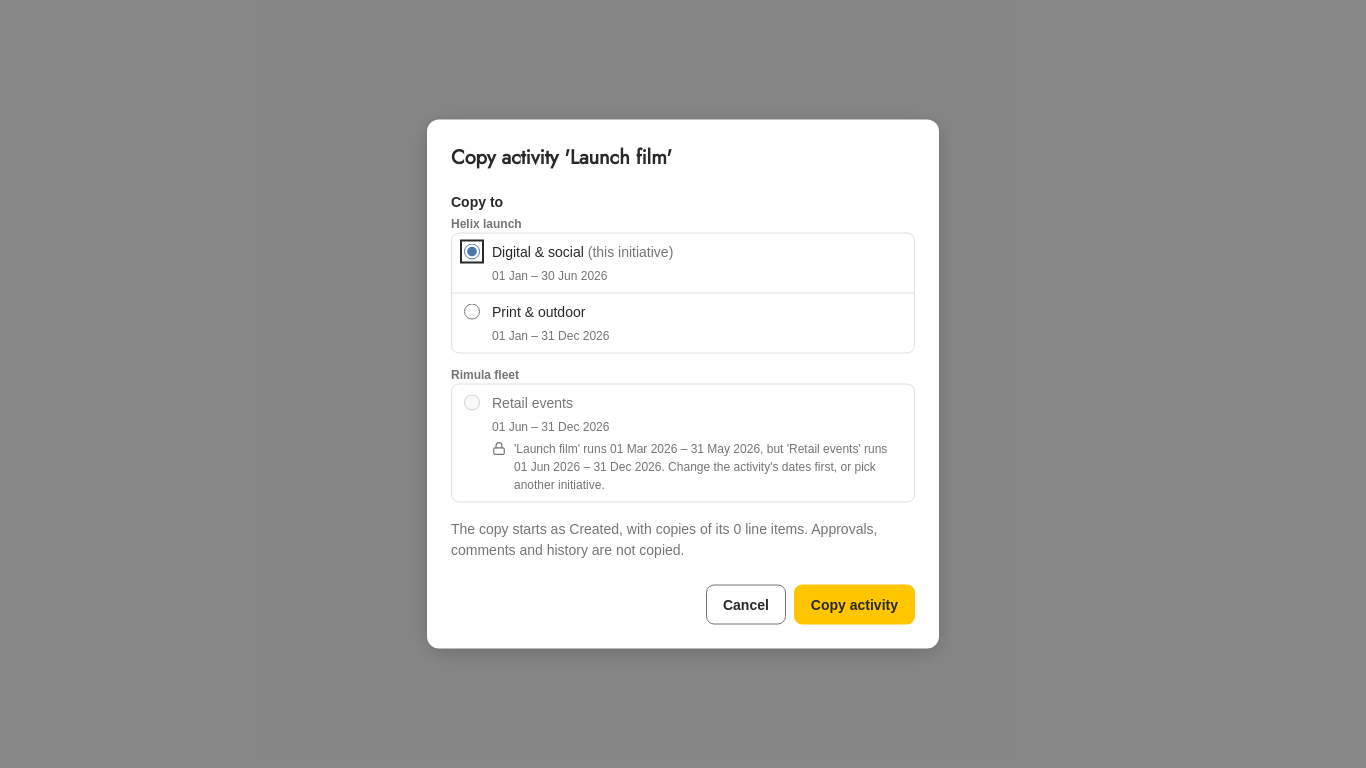
it: CopyActivityDialog (feature 006, US5#2, FR-030) › shows the API’s refusal in the dialog
Expected: the element "Copy to" is shown, [451,192,915,502]
Click the button "Copy activity" at (854, 604), box [794,584,915,624]
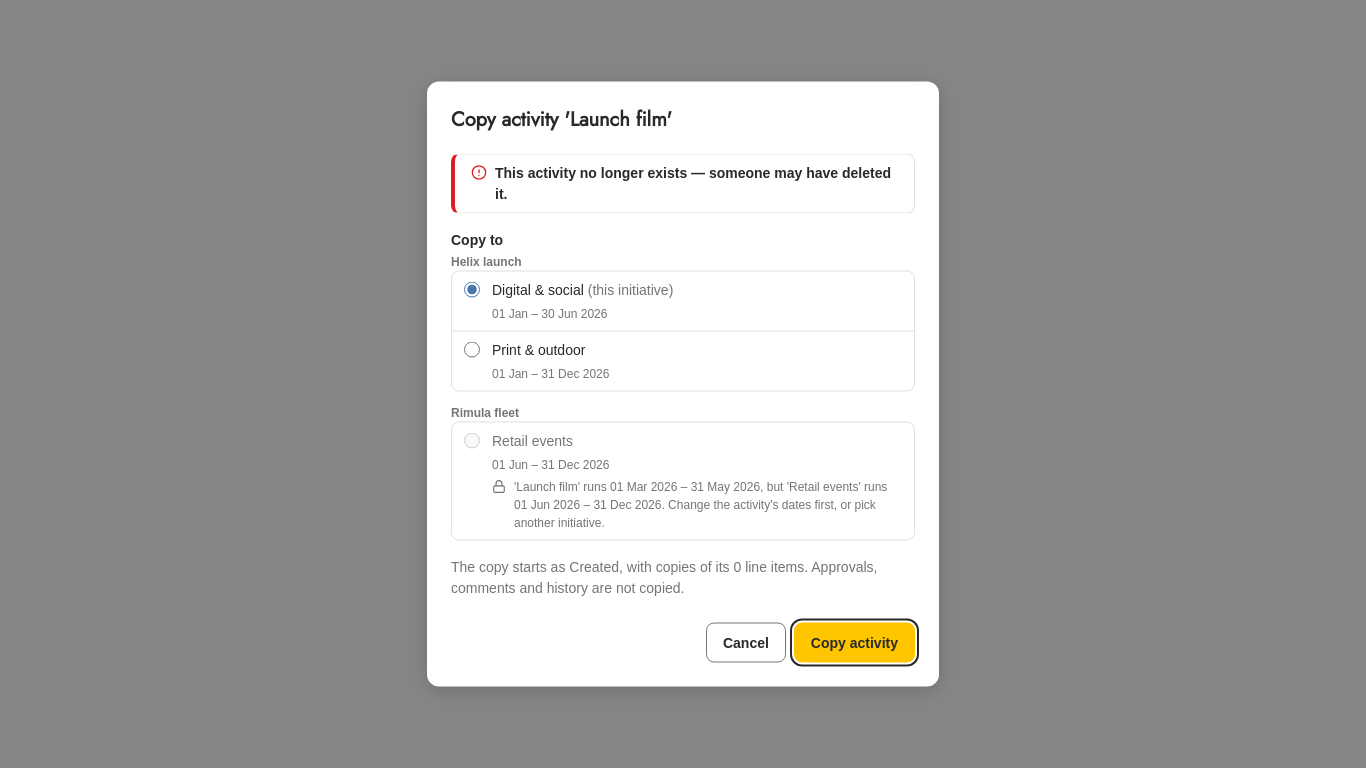
Expected: the message reads "This activity no longer exists — someone may have deleted it.", [495,164,891,202]
